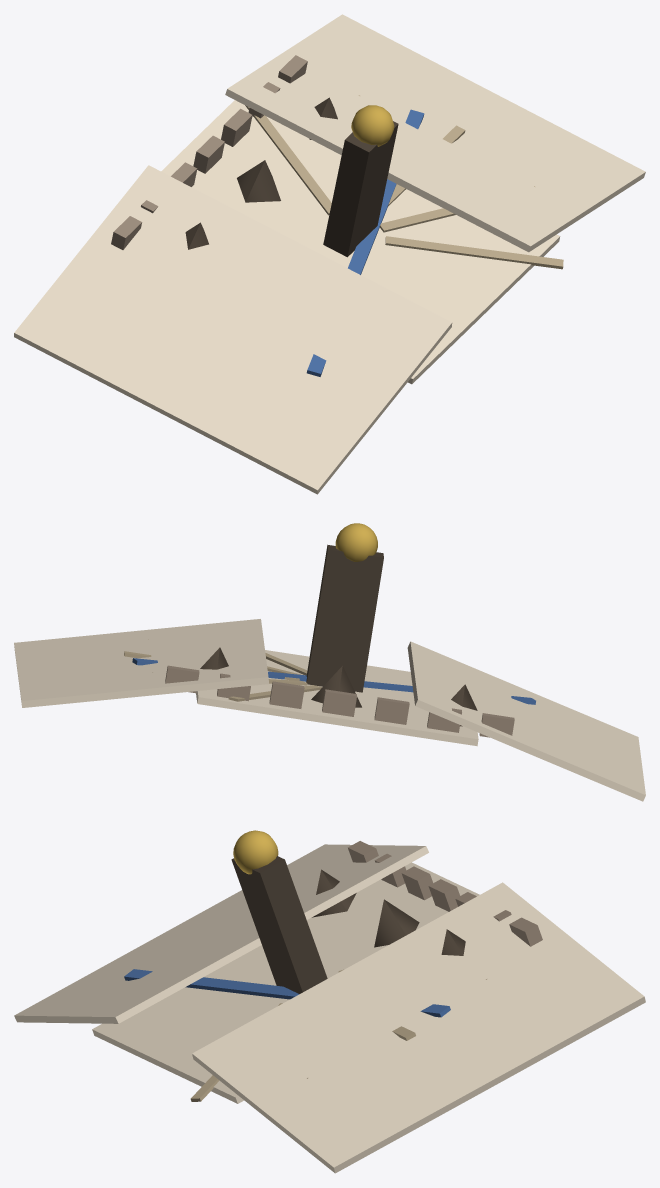
The model's file is empire_map.glb.
3 renders of one model, top to bottom at view 1: azimuth 30°, elevation 25°; view 2: azimuth 150°, elevation 25°; view 3: azimuth 270°, elevation 25°, orthographic. The views are drawn at different scales.
Bounding box in the file's own units: 2.04 × 0.8084 × 1.68.
